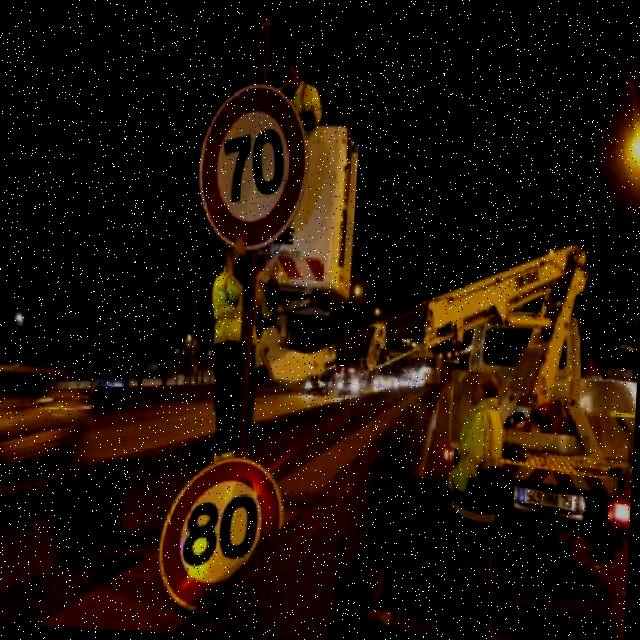Ograniczenie predkosci do 70: (196, 82, 308, 256)
